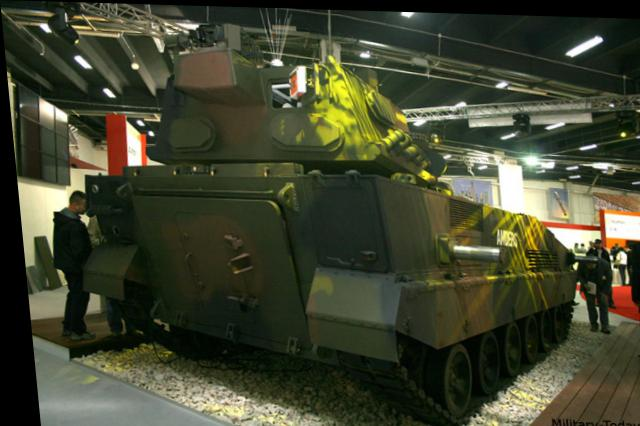tank: (69, 40, 587, 422)
